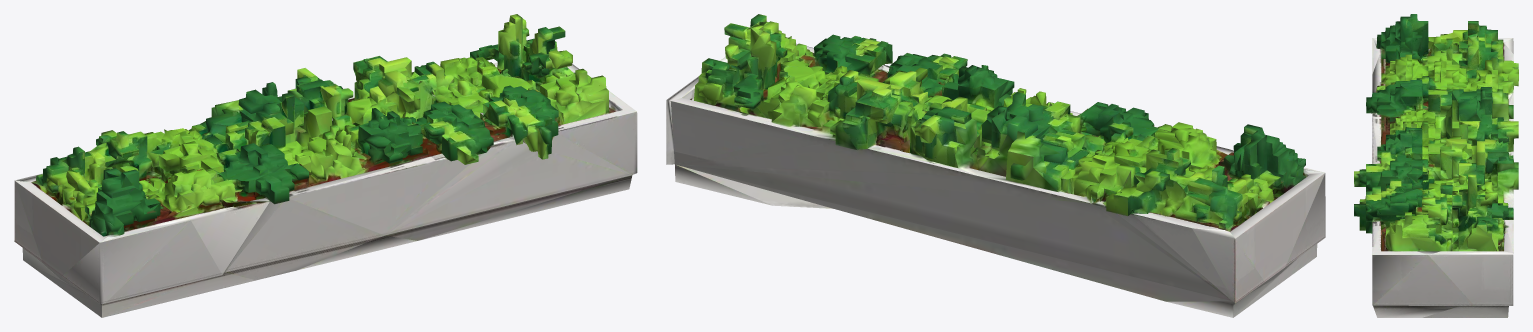
The model's file is desk_planter.glb.
The picture shows the model from 3 angles, left to right: view 1: azimuth 30°, elevation 25°; view 2: azimuth 150°, elevation 25°; view 3: azimuth 270°, elevation 25°; orthographic projection. The views are drawn at different scales.
Bounding box in the file's own units: 2 × 0.5131 × 0.6419.
1 material, 1 textured.
